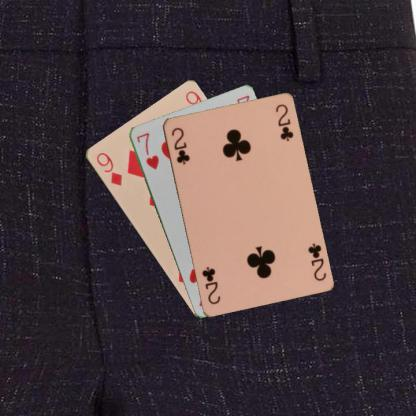2c: (168, 125, 191, 166), (305, 240, 327, 282)
7h: (134, 130, 160, 171)
9d: (93, 150, 124, 187)
